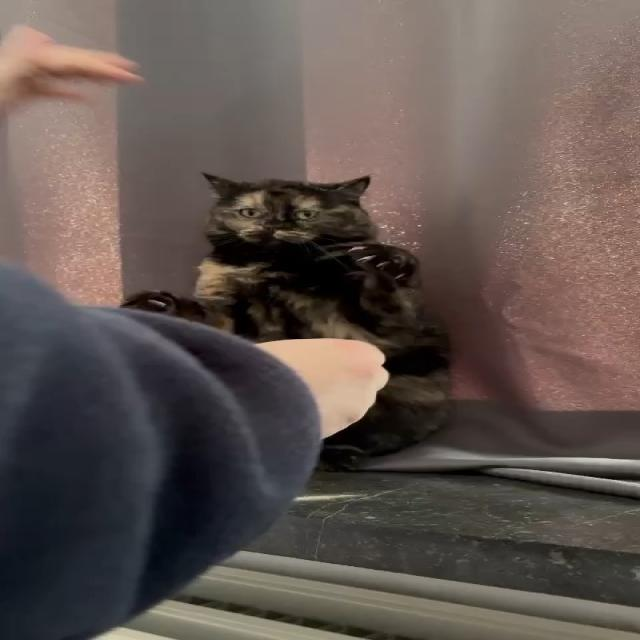authorized: (118, 171, 454, 471)
